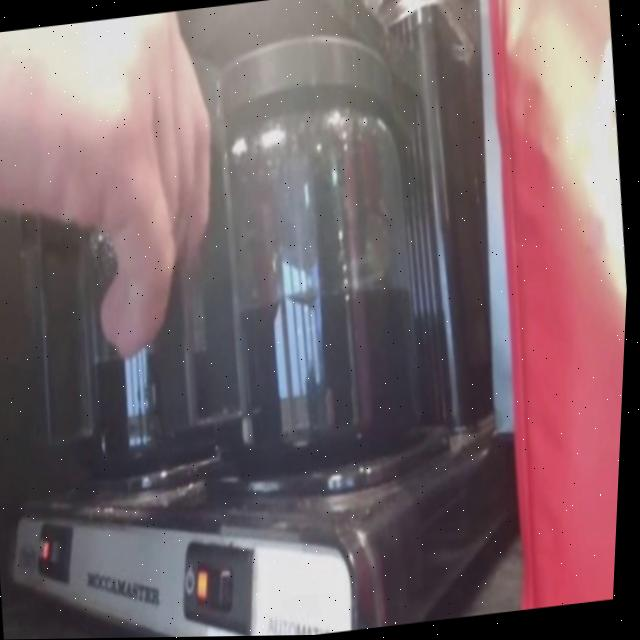coffee: (217, 123, 434, 457), (65, 349, 218, 474)
